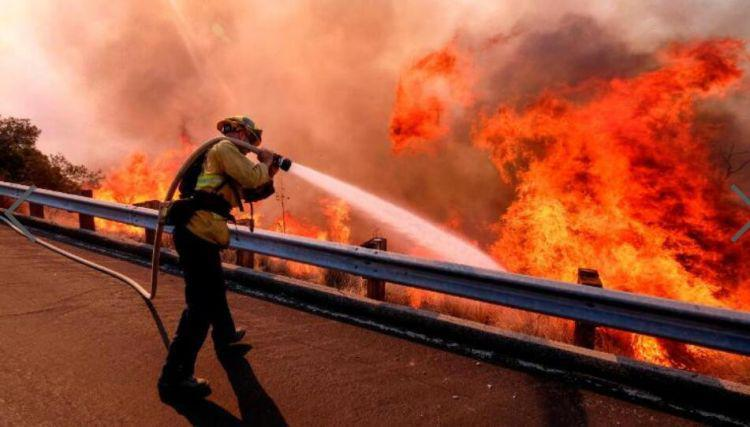fire: (378, 10, 744, 376), (87, 126, 203, 244), (229, 187, 364, 280), (14, 192, 81, 228)
